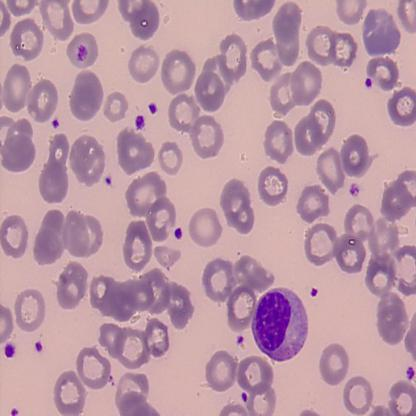Metamyelocyte: (249, 285, 310, 365)
